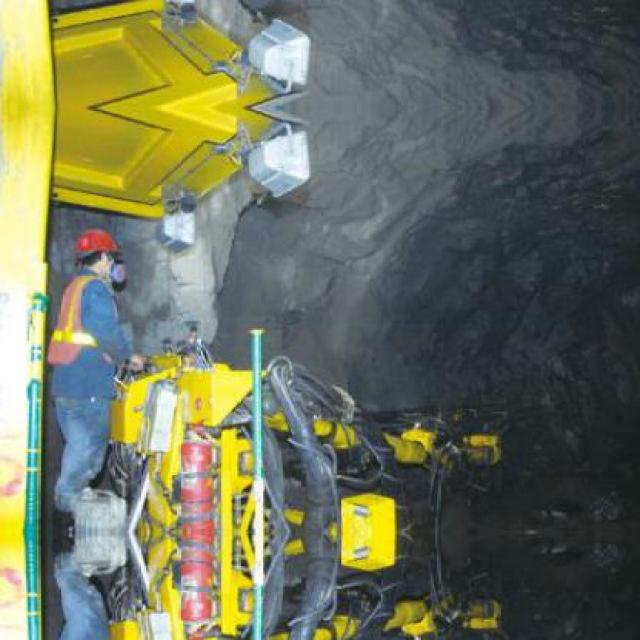helmet: (72, 227, 119, 274)
